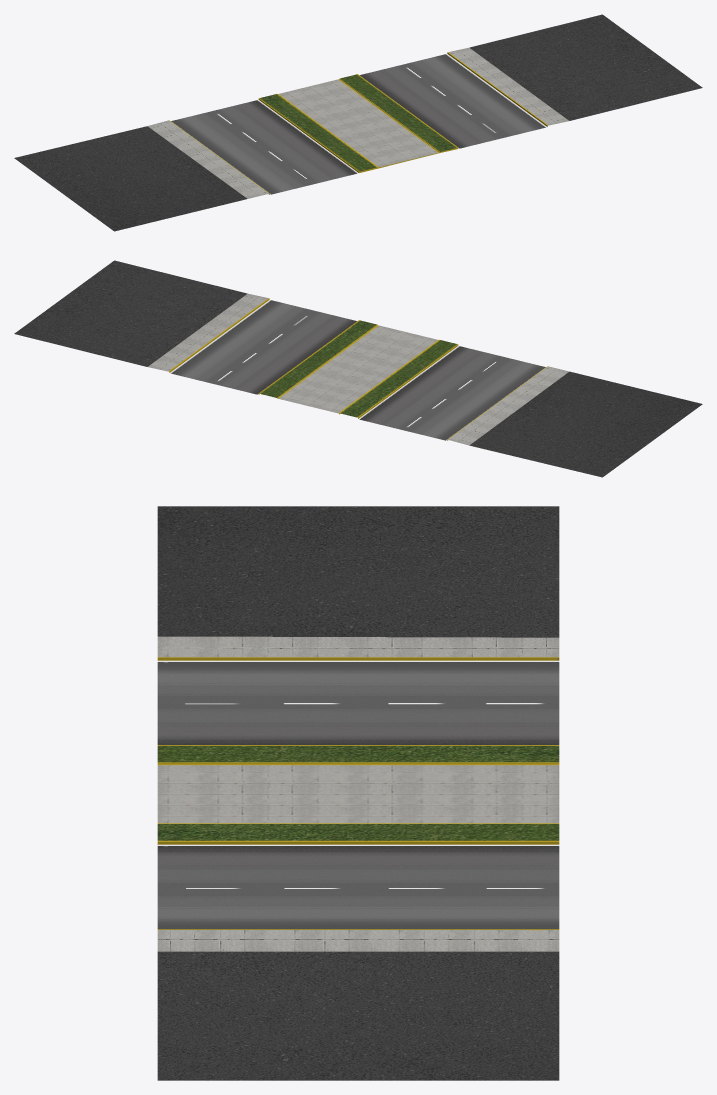
File: Pista2carriles.FBX
3 views of the same model, one above another, from view 1: azimuth 30°, elevation 25°; view 2: azimuth 150°, elevation 25°; view 3: azimuth 270°, elevation 25° (orthographic). The views are drawn at different scales.
Parts seen in each view (by area): view 1: Plane019; view 2: Plane019; view 3: Plane019.
Boxes of the visible parts, left/top/right/bottom form: Plane019: left=14, top=14, right=702, bottom=231; Plane019: left=14, top=260, right=702, bottom=477; Plane019: left=157, top=506, right=559, bottom=1080.
Bounding box in the file's own units: 2997 × 7.09 × 885.
